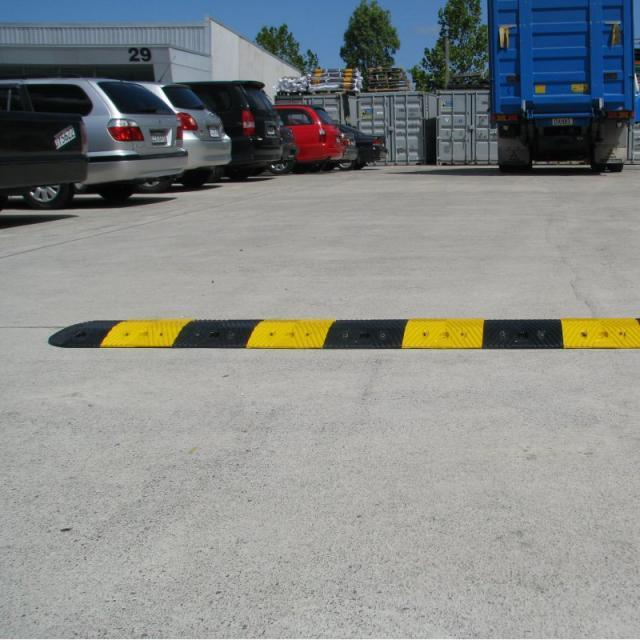Marked Bump: (77, 300, 628, 358)
